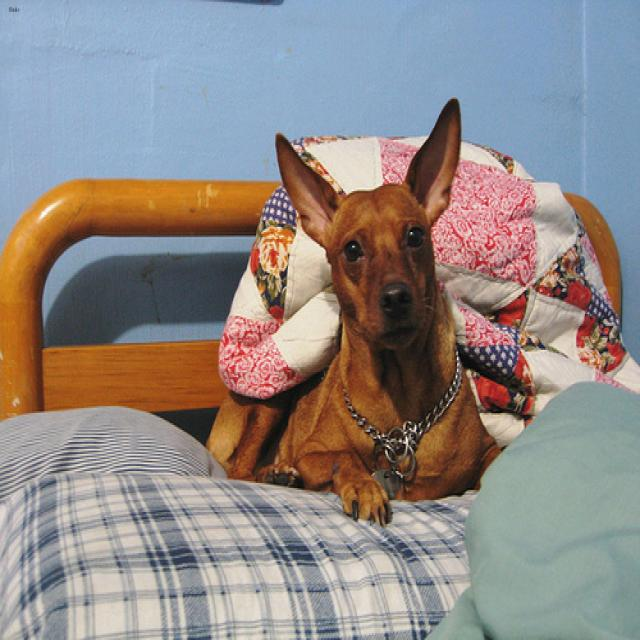dog-miniature_pinscher: (201, 87, 513, 534)
